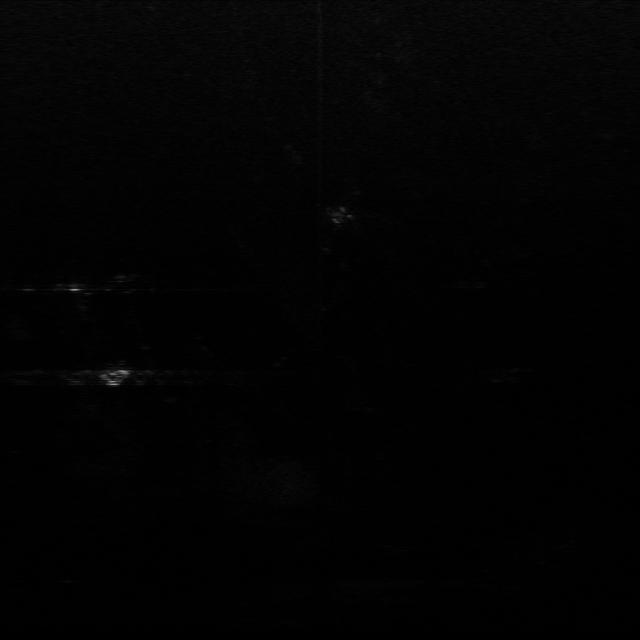rov: (100, 366, 132, 390)
